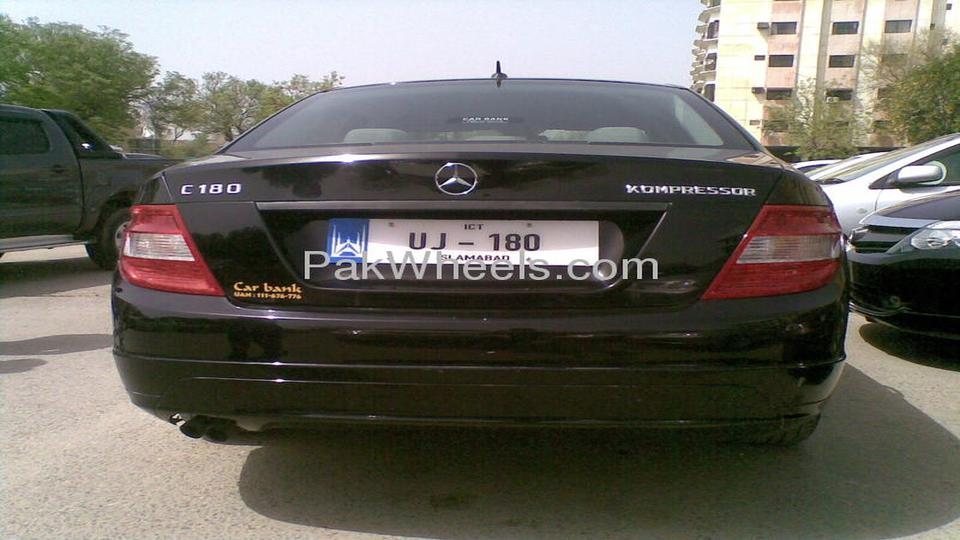NumberPlate: (327, 209, 604, 275)
